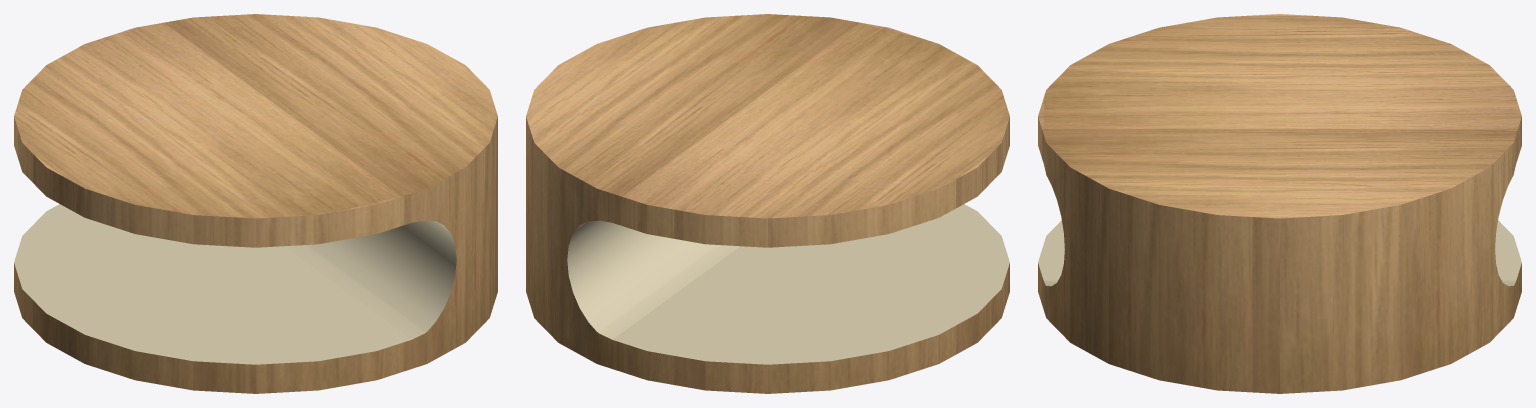
Rendered from tavolino.glb.
3 renders of one model, left to right at view 1: azimuth 30°, elevation 25°; view 2: azimuth 150°, elevation 25°; view 3: azimuth 270°, elevation 25°, orthographic.
Bounding box in the file's own units: 0.9 × 0.36 × 0.9.
3 materials, 2 textured.
